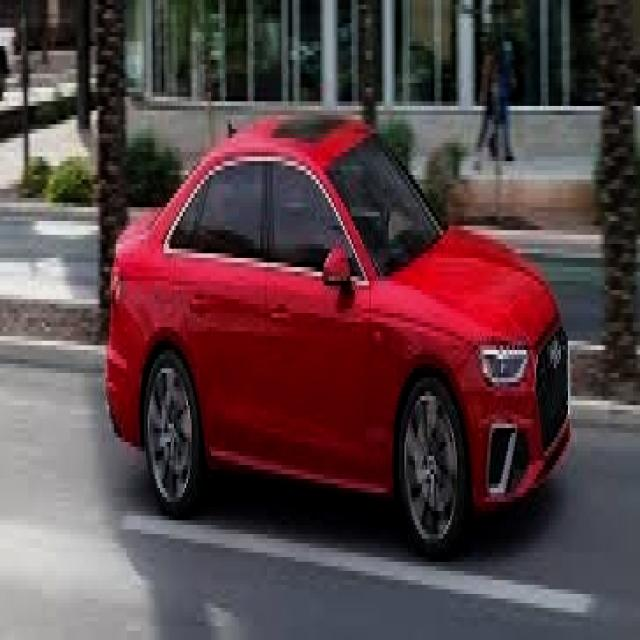red: (103, 112, 575, 570)
